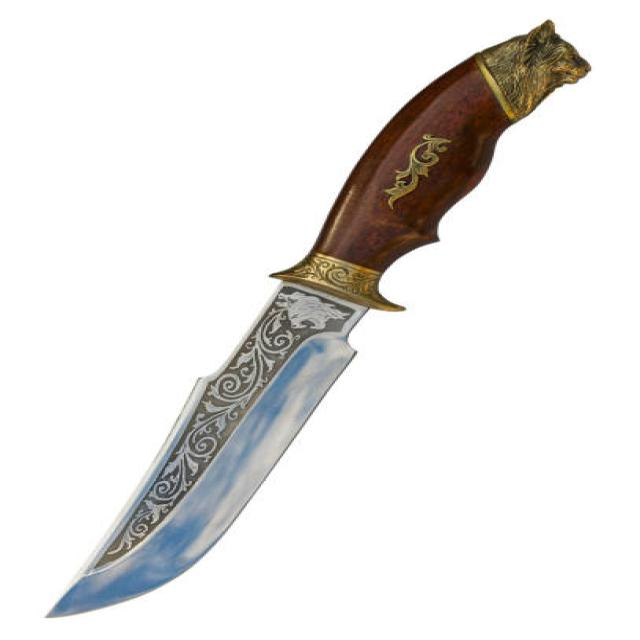knife: (24, 14, 614, 618)
